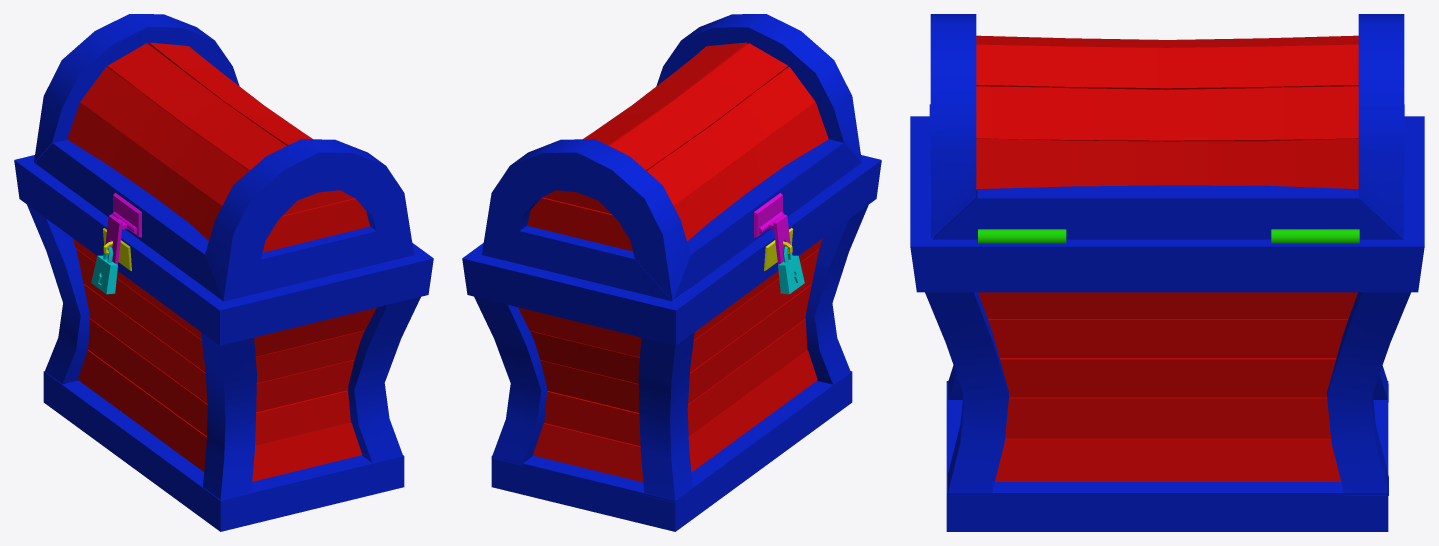
The model's file is Treasurechest.FBX.
The picture shows the model from 3 angles, left to right: view 1: azimuth 30°, elevation 25°; view 2: azimuth 150°, elevation 25°; view 3: azimuth 270°, elevation 25°; orthographic projection. The views are drawn at different scales.
Parts seen in each view (by area): view 1: Box052; view 2: Box052; view 3: Box052.
Part boxes in pixels (x1,y1,x2,y2): Box052: [14, 14, 433, 531]; Box052: [462, 14, 881, 531]; Box052: [910, 14, 1424, 531].
Size of the model in its own units: 7.58 by 11.28 by 11.64.
